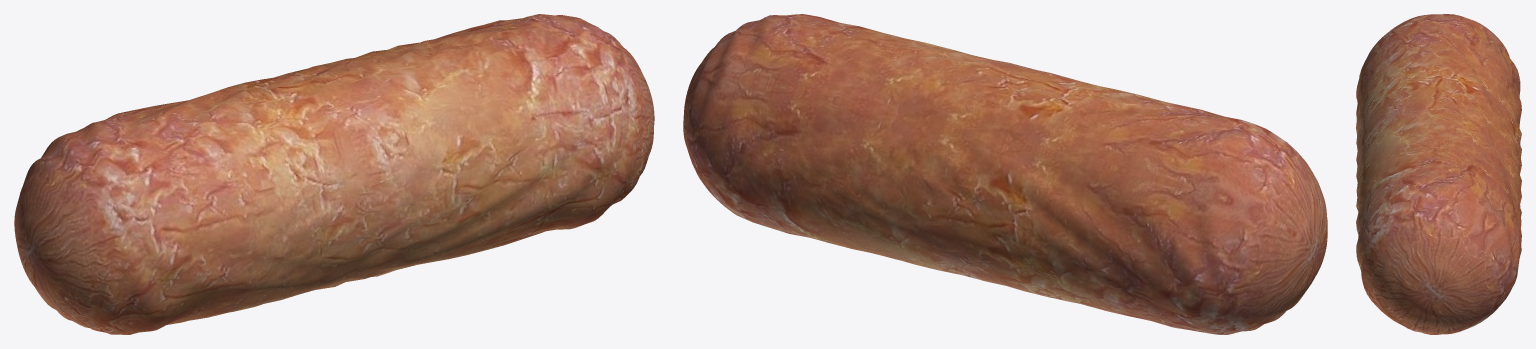
The model's file is SM_ColdCutting.fbx.
The picture shows the model from 3 angles, left to right: view 1: azimuth 30°, elevation 25°; view 2: azimuth 150°, elevation 25°; view 3: azimuth 270°, elevation 25°; orthographic projection. The views are drawn at different scales.
Visible parts, largest first — view 1: ColdCutting; view 2: ColdCutting; view 3: ColdCutting.
Boxes of the visible parts, left/top/right/bottom form: ColdCutting: left=14, top=14, right=654, bottom=334; ColdCutting: left=683, top=14, right=1327, bottom=334; ColdCutting: left=1356, top=14, right=1521, bottom=334.
Size of what is drawn, in the model's own units: 20.47 by 6.35 by 6.35.
